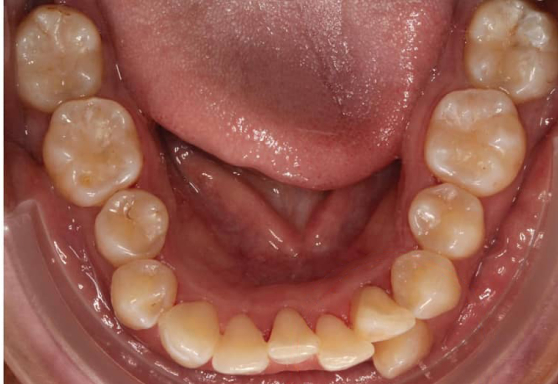LL1BC_healthy: (410, 186, 485, 255)
LL1M_decay: (464, 5, 556, 96)
LL2BC_healthy: (423, 88, 528, 191)
LLCI_healthy: (318, 313, 374, 371)
LLC_healthy: (389, 252, 459, 314)
LLLI_healthy: (350, 287, 415, 340)
LR1BC_healthy: (109, 261, 176, 326)
LR1M_decay: (46, 98, 140, 196)
LR2BC_decay: (94, 193, 172, 261)
LR2M_decay: (16, 4, 101, 102)
LRCI_healthy: (267, 308, 320, 363)
LRC_healthy: (162, 305, 216, 367)
LRLI_healthy: (213, 317, 268, 374)
